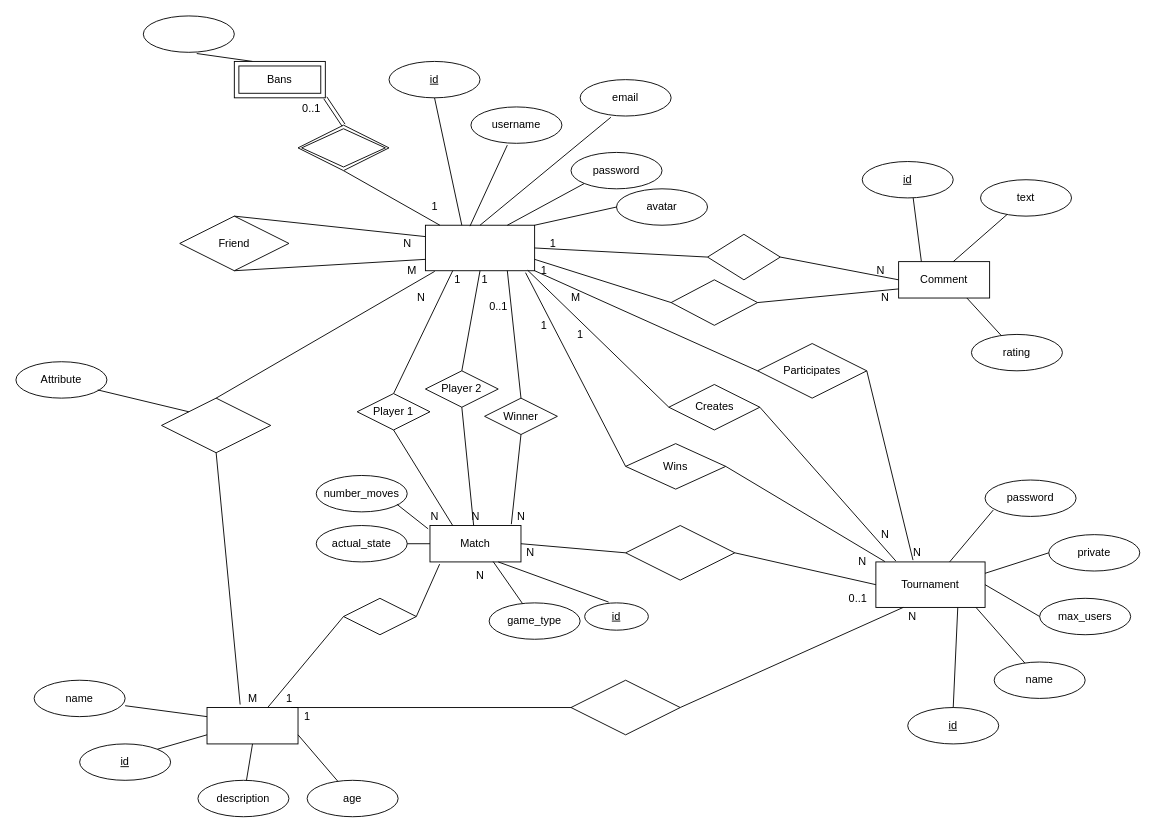
Some shapes in this 1156 by 833 pixel diagram are drawn without their labels. The shapes that lost their labels are listed below. From the top down, each one's centre as x and y in pixels, then its label:
At (188,33): "reason".
At (343,147): "Banned".
At (480,247): "User".
At (743,256): "Posted".
At (714,302): "Received".
At (216,425): "Has Rank".
At (680,552): "Belongs".
At (379,616): "Instance".
At (252,725): "Game".
At (625,707): "Chosen Game".
